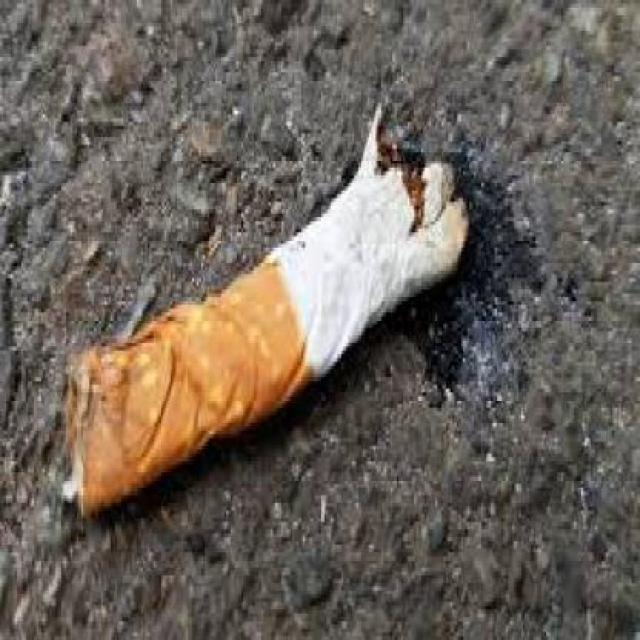cigarette: (57, 121, 501, 518)
